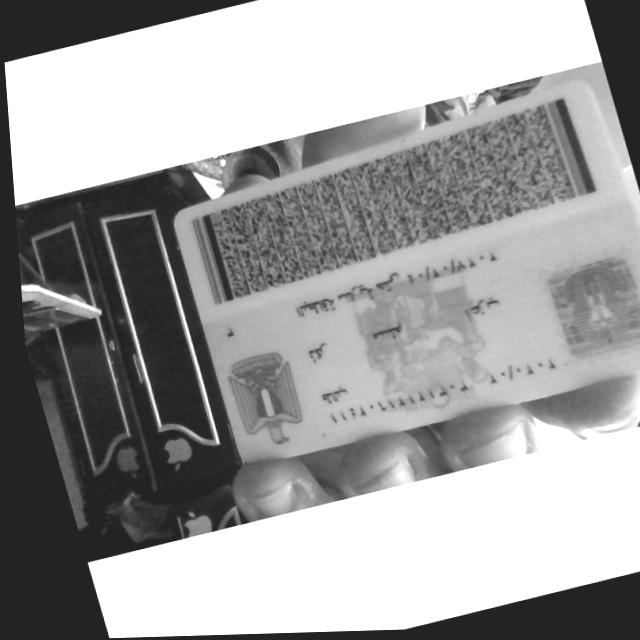id_card: (173, 82, 640, 461)
